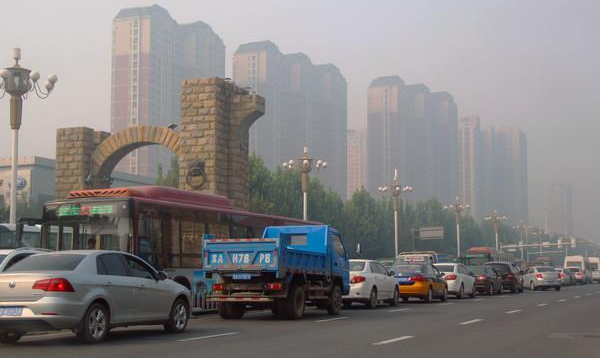bus: (13, 182, 329, 319), (1, 221, 184, 308), (200, 221, 352, 319), (462, 245, 516, 281), (534, 256, 564, 277)
car: (1, 250, 192, 348), (1, 246, 82, 329), (331, 257, 400, 309), (385, 261, 449, 304), (426, 263, 478, 299), (364, 259, 406, 303), (479, 261, 524, 294), (459, 265, 505, 295), (520, 266, 562, 290), (563, 255, 588, 286), (546, 266, 578, 286)
